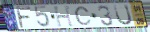3: (98, 4, 115, 27)
5: (34, 5, 52, 29)
C: (74, 6, 93, 26)
F: (14, 6, 32, 29)
H: (52, 5, 76, 28)
U: (113, 4, 134, 27)
